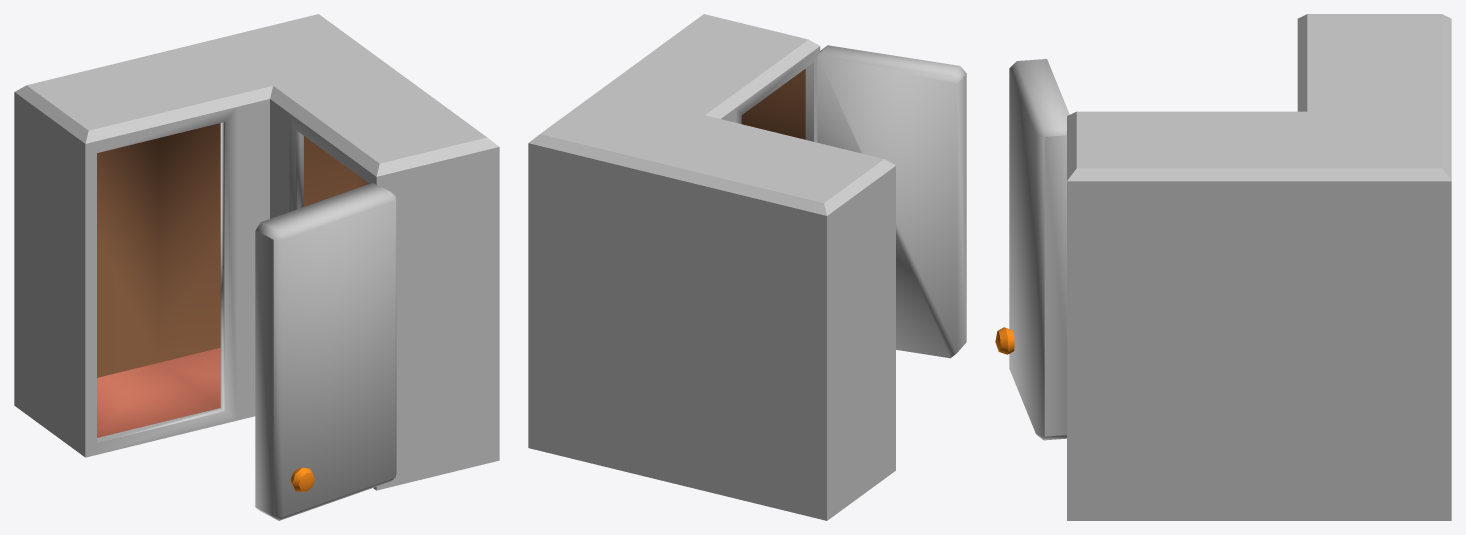
Rendered from SYONCORNERCABINET.obj.
The picture shows the model from 3 angles, left to right: view 1: azimuth 30°, elevation 25°; view 2: azimuth 150°, elevation 25°; view 3: azimuth 270°, elevation 25°; orthographic projection. The views are drawn at different scales.
Visible parts, largest first — view 1: kitchencabinet_corner_Cube.223, door; view 2: kitchencabinet_corner_Cube.223, door; view 3: kitchencabinet_corner_Cube.223, door.
Boxes of the visible parts, <box> form: kitchencabinet_corner_Cube.223: <box>14,14,499,490</box>; door: <box>255,183,396,520</box>; kitchencabinet_corner_Cube.223: <box>528,14,895,520</box>; door: <box>817,45,966,358</box>; kitchencabinet_corner_Cube.223: <box>1067,14,1451,520</box>; door: <box>995,59,1069,440</box>.
Size of the model in its own units: 2 by 2 by 2.37.
